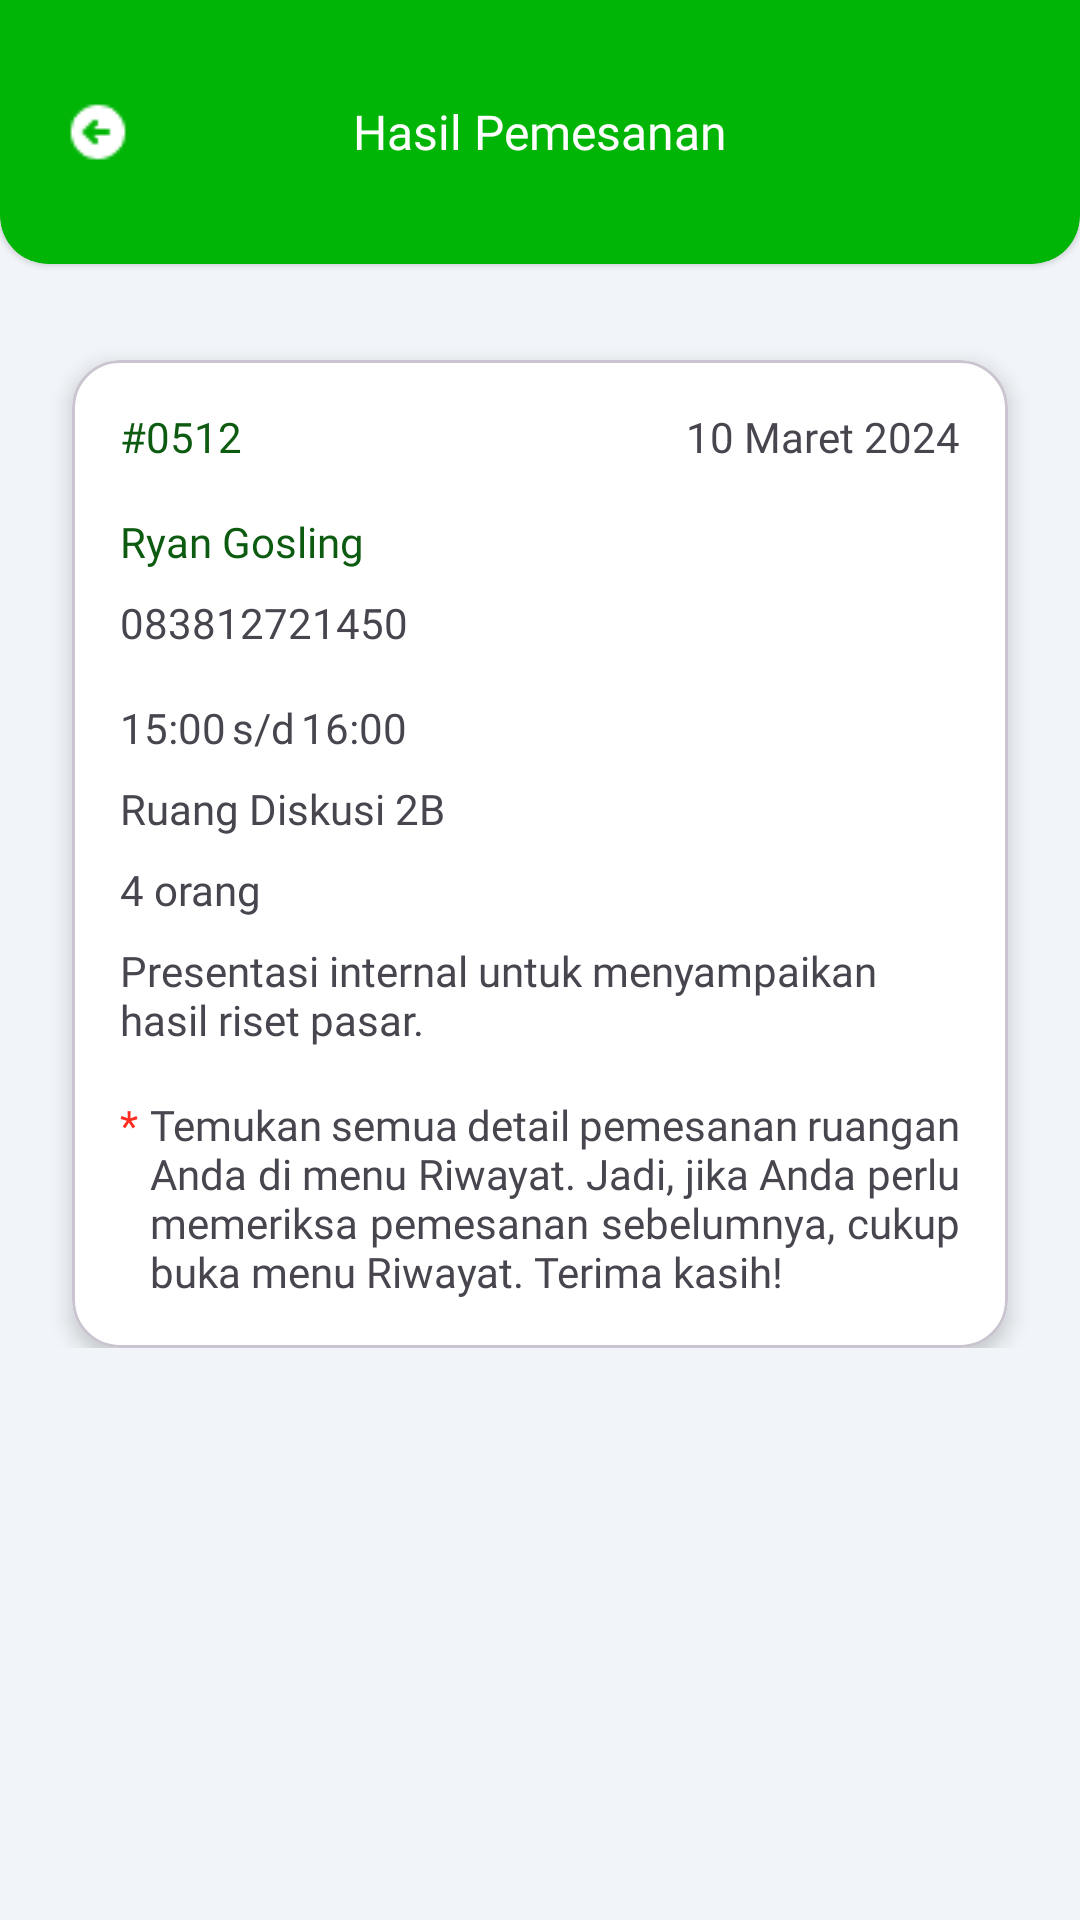

Locate icon controls on the screen. Image size 1080px x 1920px, boxes as Rect(x1, y1, x2, y2).
back: Rect(70, 104, 126, 160)
